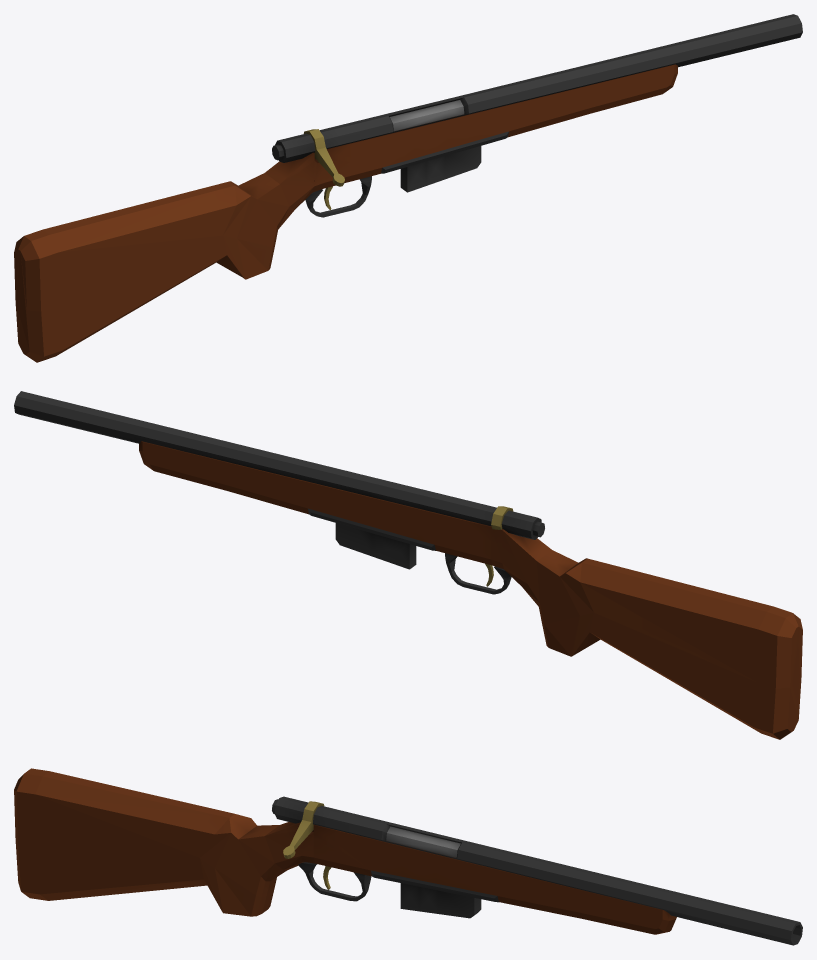
The model's file is v-boltaction-rifles-b-medium.glb.
The picture shows the model from 3 angles, top to bottom: view 1: azimuth 30°, elevation 25°; view 2: azimuth 150°, elevation 25°; view 3: azimuth 330°, elevation 25°; orthographic projection.
Visible parts, largest first — view 1: stock, receiver (×4), front (×2), grip; view 2: stock, receiver (×2), front (×2), grip; view 3: receiver (×4), stock, front (×2), grip.
Part boxes in pixels (x1,y1,x2,y2): stock: (14,196,185,362); receiver (×4): (171,101,447,283); front (×2): (439,14,802,179); grip: (195,218,284,279); stock: (631,573,802,739); receiver (×2): (369,478,645,661); front (×2): (14,391,376,556); grip: (531,595,622,656); receiver (×4): (162,796,444,913); stock: (14,768,176,900); front (×2): (435,836,802,945); grip: (178,855,276,916).
Size of the model in its own units: 1.2 by 0.2382 by 0.1067.
